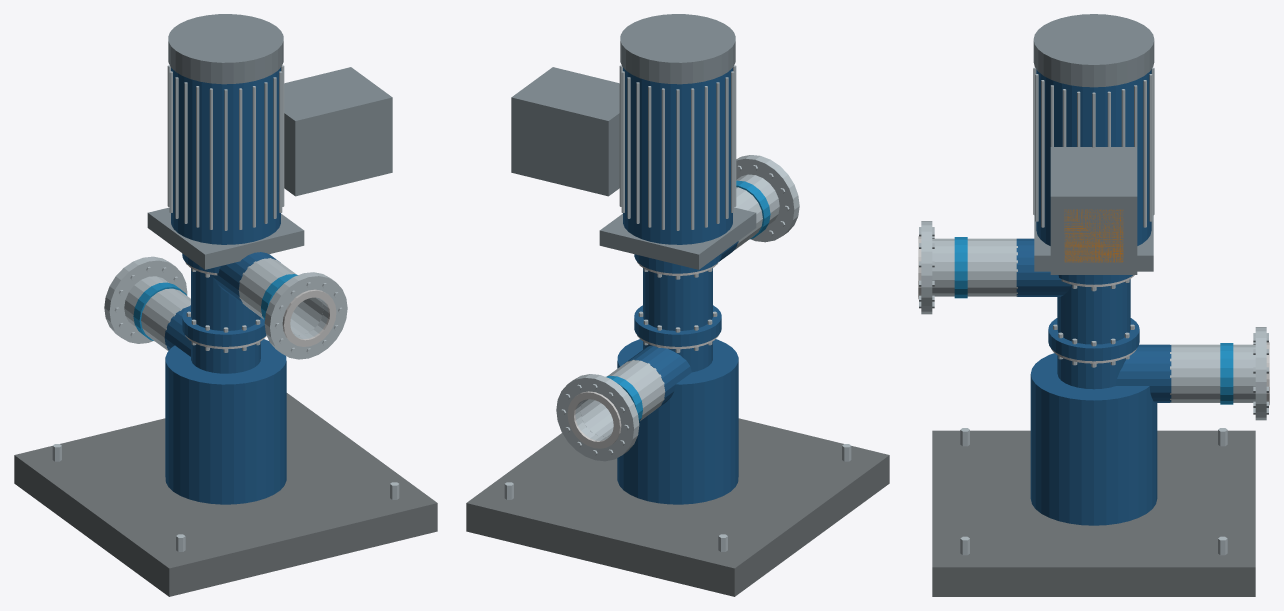
The model's file is compact.obj.
3 renders of one model, left to right at view 1: azimuth 30°, elevation 25°; view 2: azimuth 150°, elevation 25°; view 3: azimuth 270°, elevation 25°, orthographic. The views are drawn at different scales.
Bounding box in the file's own units: 0.5623 × 0.9 × 0.5857.
